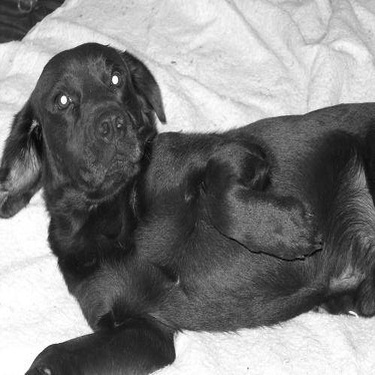dog: (6, 41, 372, 371)
